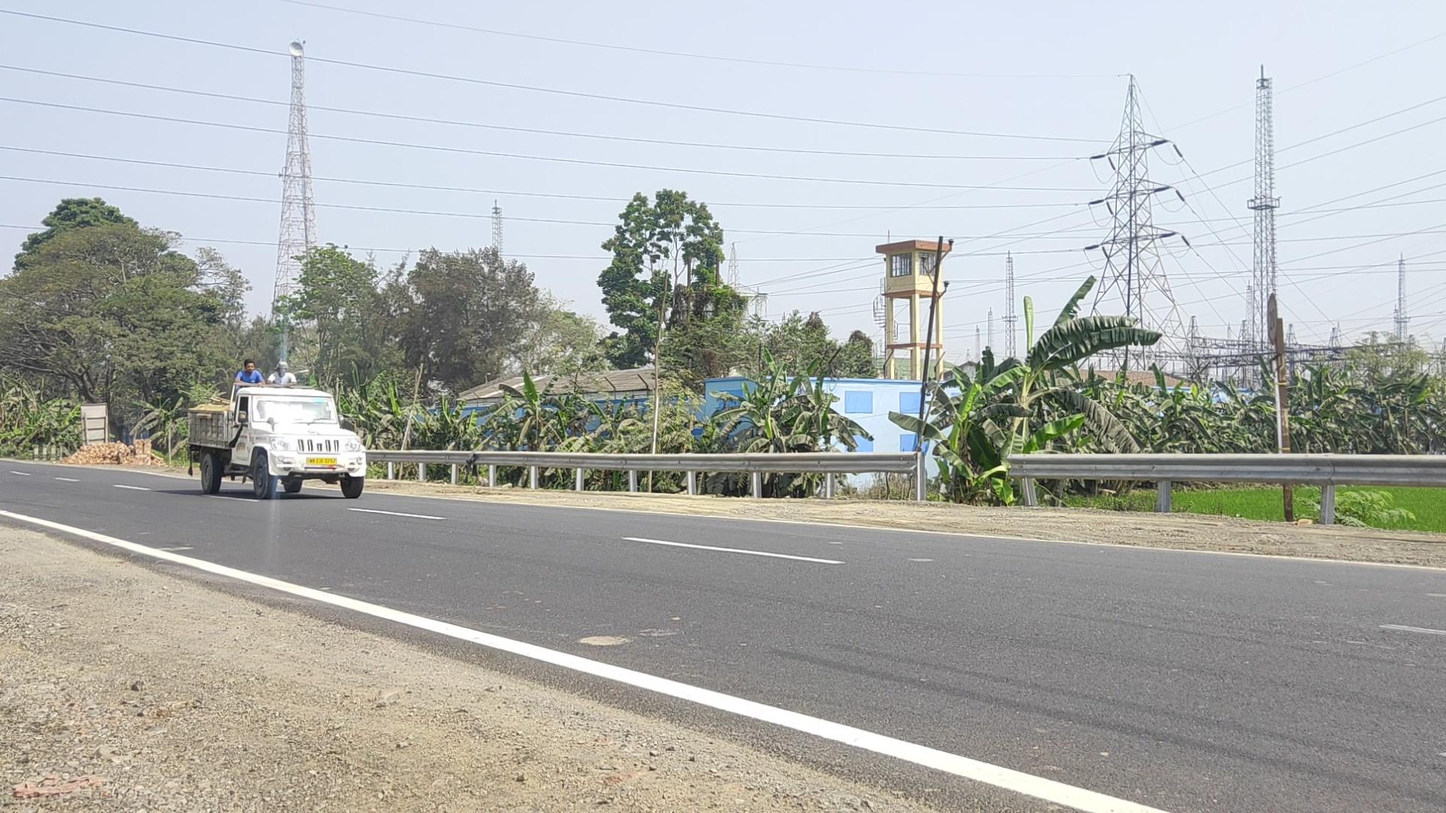van: (188, 360, 367, 500)
